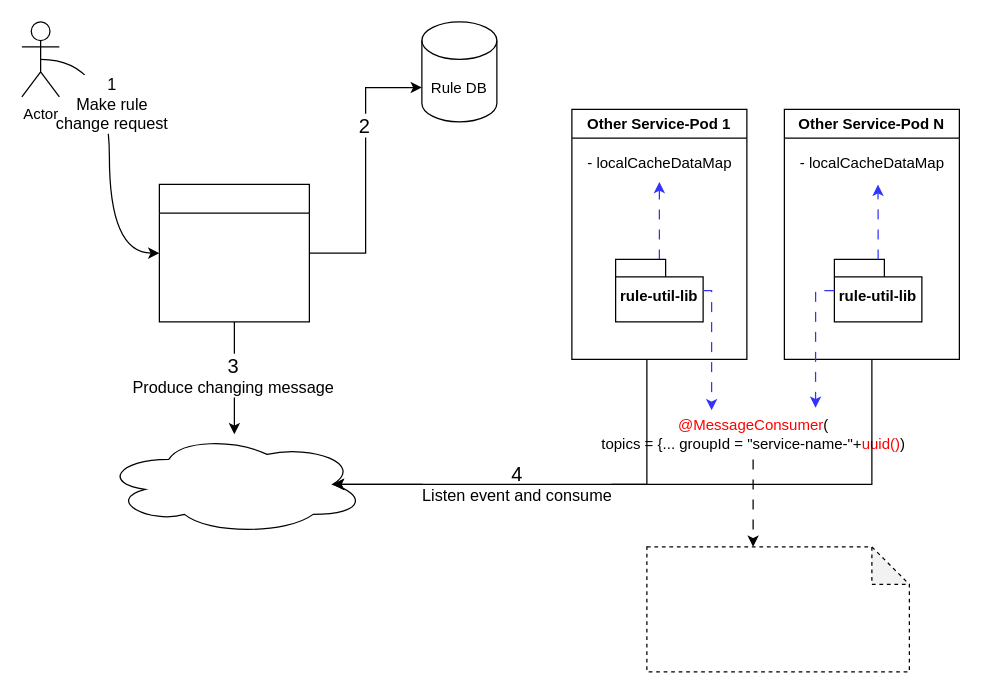
Some shapes in this 981 by 694 pixel diagram are drawn without their labels. Each missing label, with the centre of its shape:
Kafka Rule changing topic: (234,483)
Make sure a message will be send broadcast to all listening service: (777,609)
Rule Service: (233,252)
